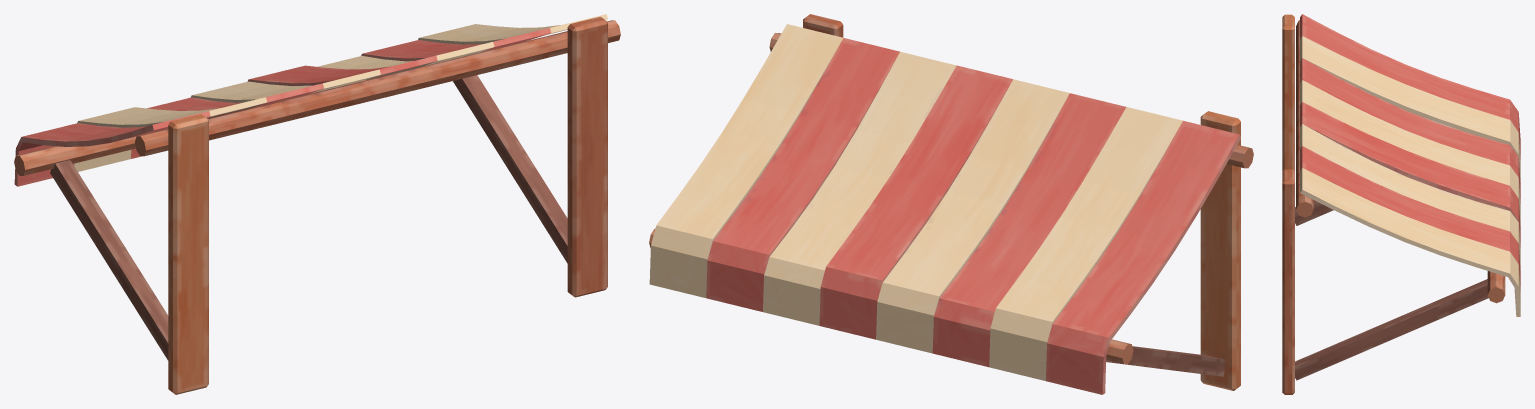
File: awning.fbx
3 views of the same model, side by side, from view 1: azimuth 30°, elevation 25°; view 2: azimuth 150°, elevation 25°; view 3: azimuth 270°, elevation 25° (orthographic). The views are drawn at different scales.
Parts seen in each view (by area): view 1: awning; view 2: awning; view 3: awning.
Part boxes in pixels (x1,y1,x2,y2): awning: (14,14,620,394); awning: (649,14,1253,394); awning: (1282,14,1520,394).
Size of the model in its own units: 6.9 by 3.75 by 3.78.
1 material, 1 textured.
